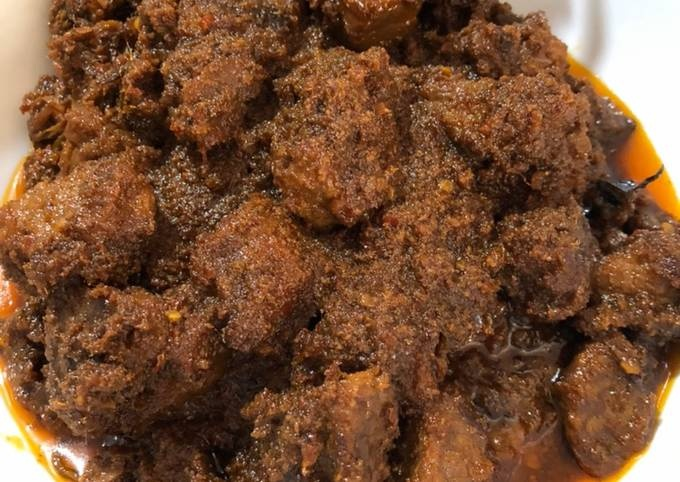rendang: (27, 14, 661, 482)
